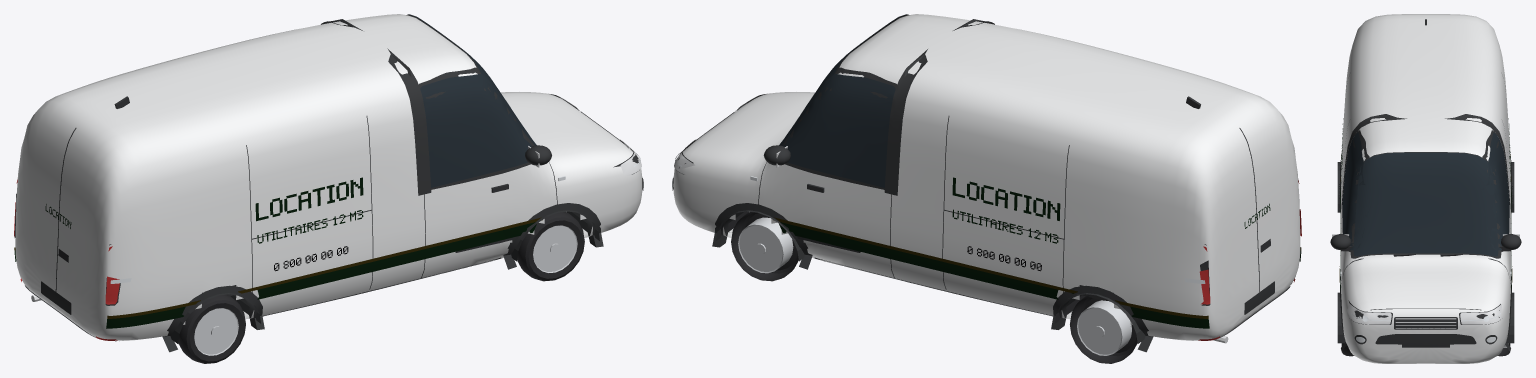
The model's file is pro_loc.glb.
The picture shows the model from 3 angles, left to right: view 1: azimuth 30°, elevation 25°; view 2: azimuth 150°, elevation 25°; view 3: azimuth 270°, elevation 25°; orthographic projection. The views are drawn at different scales.
Visible parts, largest first — view 1: Body, Glass-1, ProStripe-1, WheelRR, WheelFR, Bpillar-1, ProAccent-1, ArchTrim-1.001, ArchTrim-1, WinFrame-1, ArchLiner.003; view 2: Body, Glass1, ProStripe1, WheelFL, WheelRL, Bpillar1, ProAccent1, ArchTrim1.001, ArchTrim1, WinFrame1, ArchLiner.002; view 3: Body, Windshield, Glass1, Glass-1, Intake, HeadReflector, Grille, WsFrame, Bpillar1, Bpillar-1, HeadBezel, Mirror1 (+7 smaller).
Boxes of the visible parts, box(x1,y1,x2,y2) form: Body: box(15, 14, 642, 340); Glass-1: box(420, 74, 536, 187); ProStripe-1: box(106, 222, 536, 328); WheelRR: box(178, 294, 245, 363); WheelFR: box(517, 212, 584, 281); Bpillar-1: box(387, 48, 431, 195); ProAccent-1: box(107, 217, 542, 318); ArchTrim-1.001: box(162, 285, 264, 352); ArchTrim-1: box(503, 203, 603, 269); WinFrame-1: box(418, 67, 532, 189); ArchLiner.003: box(170, 292, 260, 343); Body: box(673, 14, 1300, 340); Glass1: box(779, 74, 895, 187); ProStripe1: box(779, 222, 1209, 328); WheelFL: box(731, 212, 798, 281); WheelRL: box(1070, 294, 1137, 363); Bpillar1: box(884, 49, 927, 195); ProAccent1: box(773, 217, 1208, 318); ArchTrim1.001: box(1051, 285, 1153, 352); ArchTrim1: box(712, 203, 812, 269); WinFrame1: box(785, 67, 897, 189); ArchLiner.002: box(1054, 292, 1145, 343); Body: box(1341, 14, 1510, 363); Windshield: box(1353, 152, 1498, 256); Glass1: box(1477, 132, 1509, 250); Glass-1: box(1342, 132, 1371, 250); Intake: box(1375, 334, 1476, 344); HeadReflector: box(1347, 304, 1503, 324); Grille: box(1394, 317, 1457, 329); WsFrame: box(1350, 152, 1501, 258); Bpillar1: box(1445, 114, 1510, 208); Bpillar-1: box(1341, 114, 1406, 208); HeadBezel: box(1348, 300, 1500, 324); Mirror1: box(1501, 234, 1521, 249).
Bounding box in the file's own units: 5.62 × 2.34 × 2.15.
